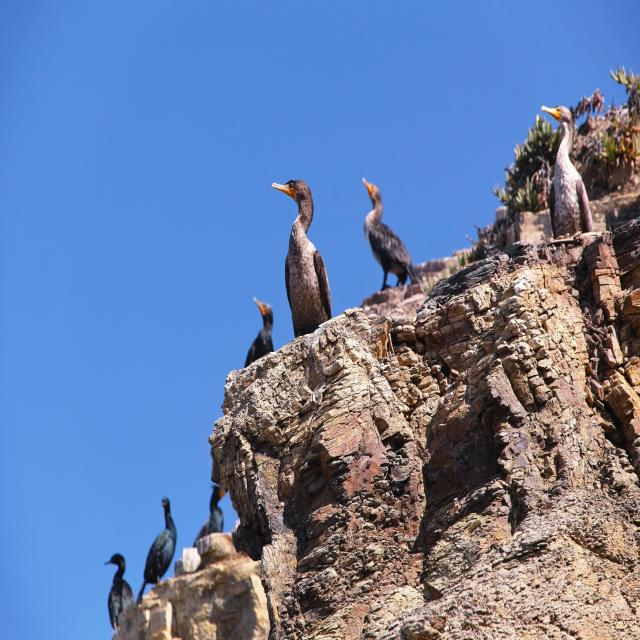bird: (275, 182, 333, 350), (534, 97, 599, 236), (360, 181, 420, 290), (140, 499, 185, 599), (234, 301, 279, 367), (104, 552, 138, 634), (197, 482, 231, 536)
